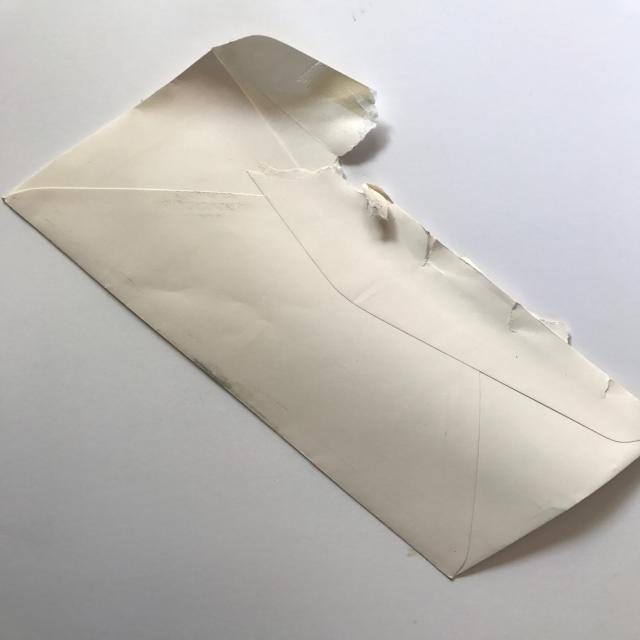paper: (2, 33, 639, 581)
